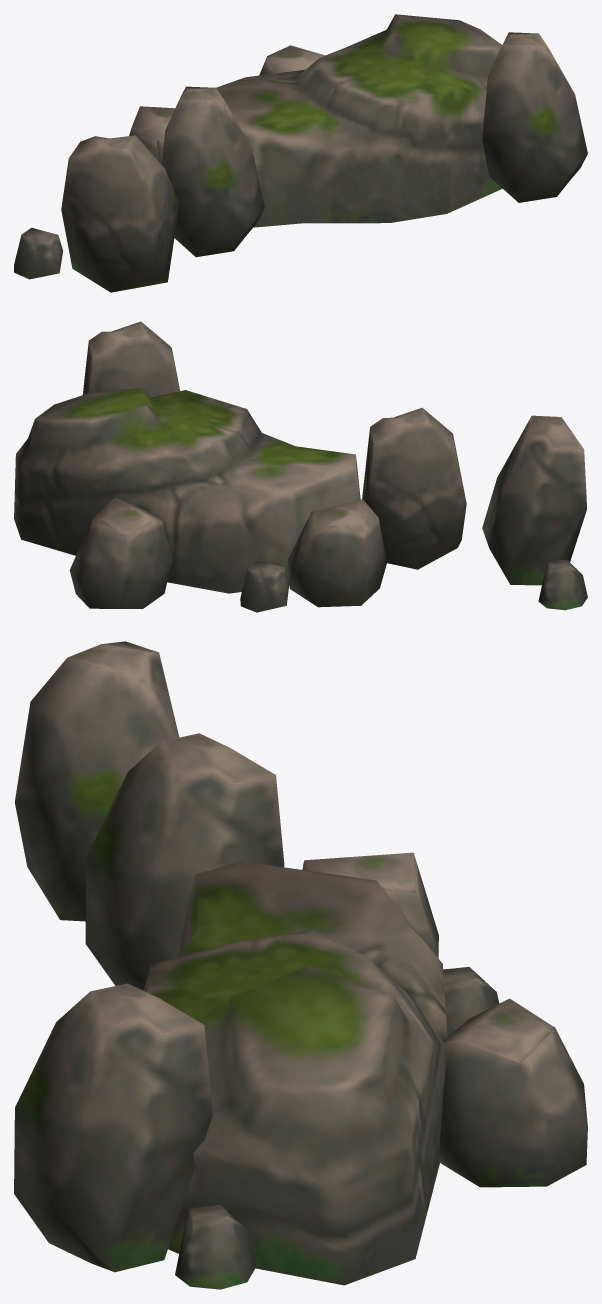
The model's file is shrine_wj004_05.FBX.
The picture shows the model from 3 angles, top to bottom: view 1: azimuth 30°, elevation 25°; view 2: azimuth 150°, elevation 25°; view 3: azimuth 270°, elevation 25°; orthographic projection. The views are drawn at different scales.
Parts seen in each view (by area): view 1: shrine_wj004_05; view 2: shrine_wj004_05; view 3: shrine_wj004_05.
Boxes of the visible parts, left/top/right/bottom form: shrine_wj004_05: left=14, top=14, right=587, bottom=292; shrine_wj004_05: left=14, top=321, right=587, bottom=612; shrine_wj004_05: left=14, top=641, right=587, bottom=1289.
Bounding box in the file's own units: 394 × 108 × 214.
1 material, 1 textured.
